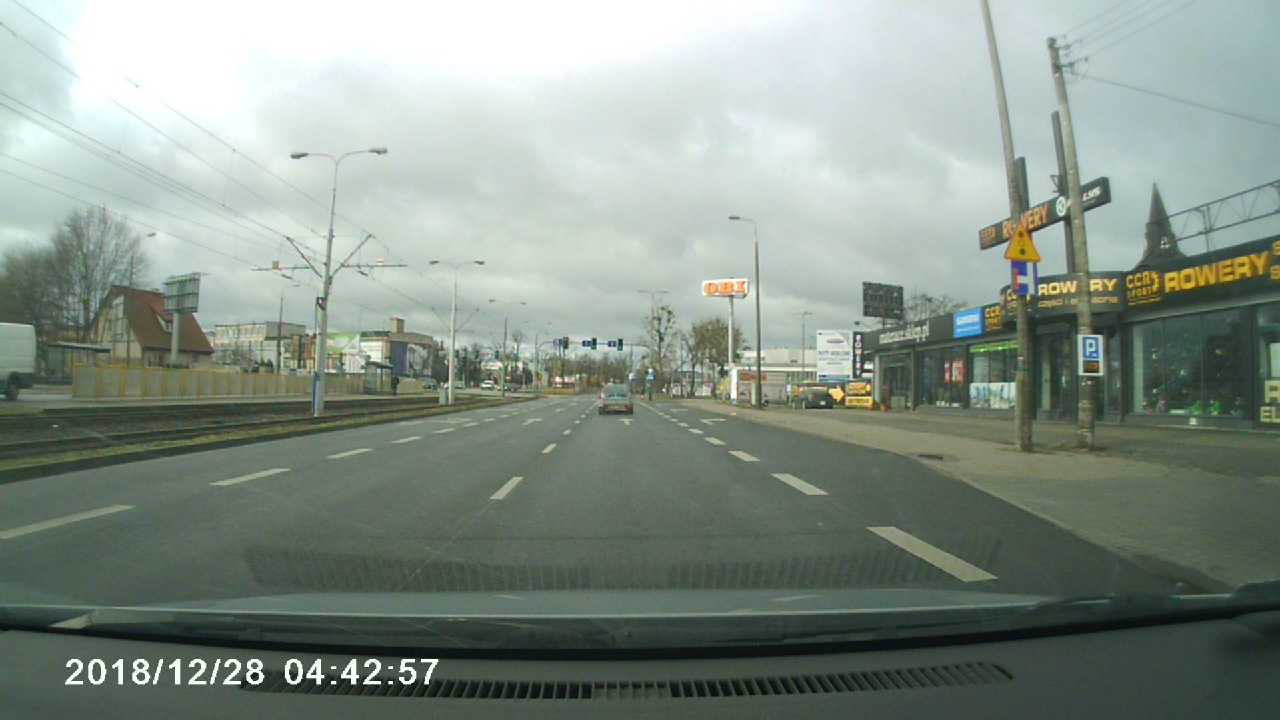A29: (1001, 219, 1045, 263)
